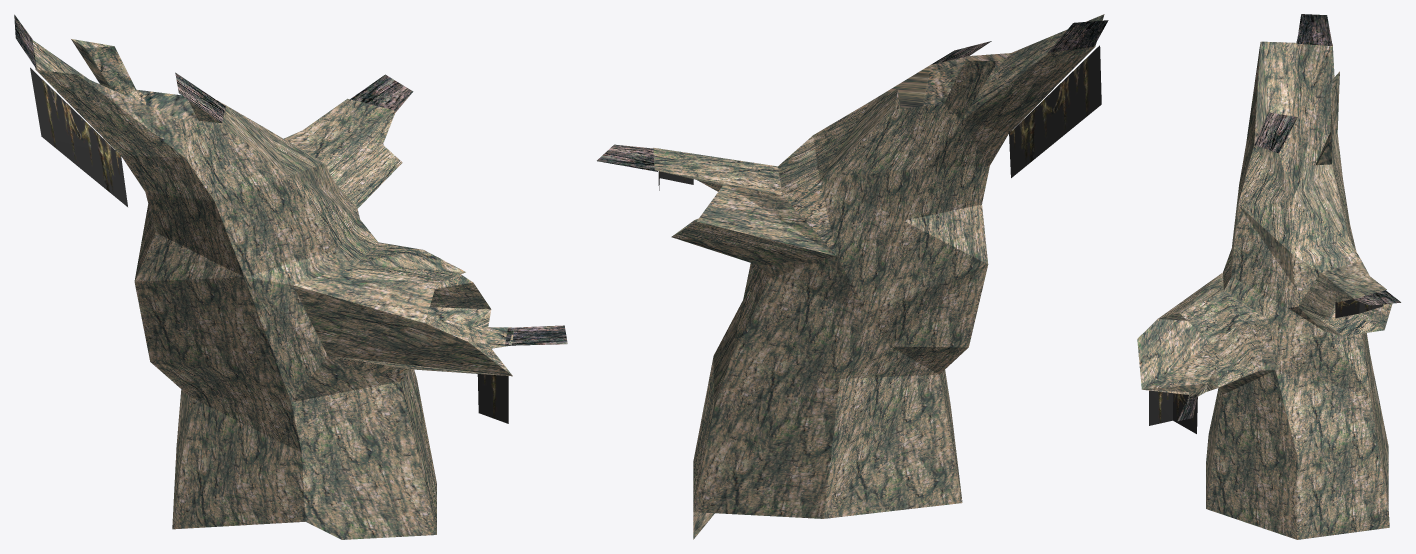
Rendered from poi_all_lair_dead_log_large_l1.fbx.
3 views of the same model, side by side, from view 1: azimuth 30°, elevation 25°; view 2: azimuth 150°, elevation 25°; view 3: azimuth 270°, elevation 25° (orthographic). The views are drawn at different scales.
Visible parts, largest first — view 1: mesh_node; view 2: mesh_node; view 3: mesh_node.
Part boxes in pixels (x1,y1,x2,y2): mesh_node: [14, 14, 567, 539]; mesh_node: [597, 14, 1108, 539]; mesh_node: [1137, 14, 1400, 539].
Size of the model in its own units: 7.98 by 9.17 by 5.53.
